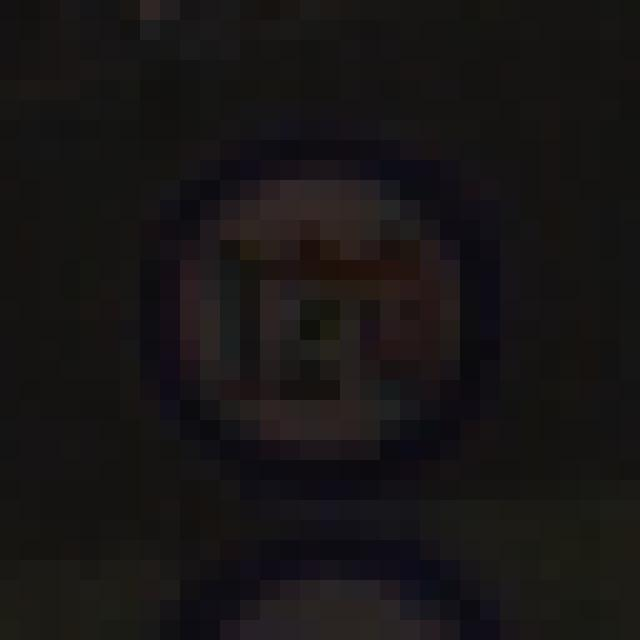SPEED LIMIT 120: (138, 139, 498, 495)
